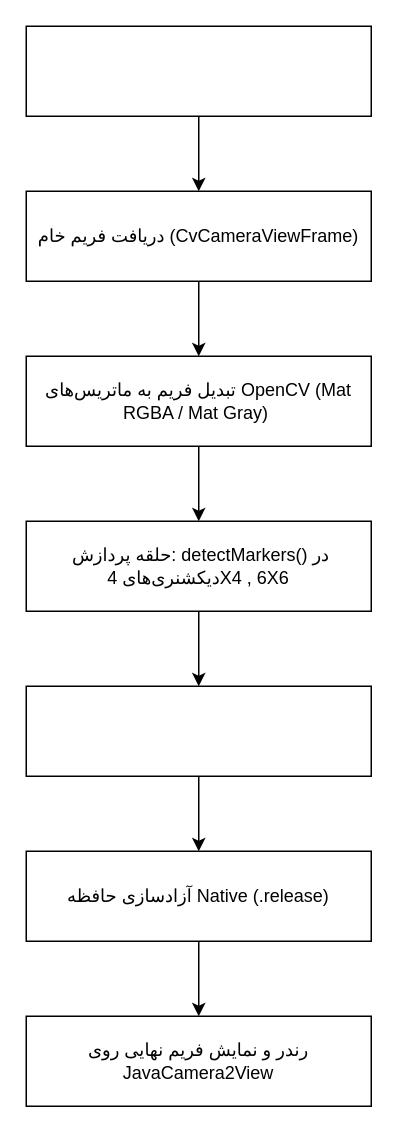
Image size: 398x1133. Some labels were removed from this diagram. The box of each missing label's shape, as (x1, y1, x2, y2) in pixels:
ترسیم باکس سبز، ID قرمز و لیبل آبی با Imgproc: (25, 685, 371, 776)
دوربین دستگاه (Android Camera2 API): (25, 25, 371, 116)
